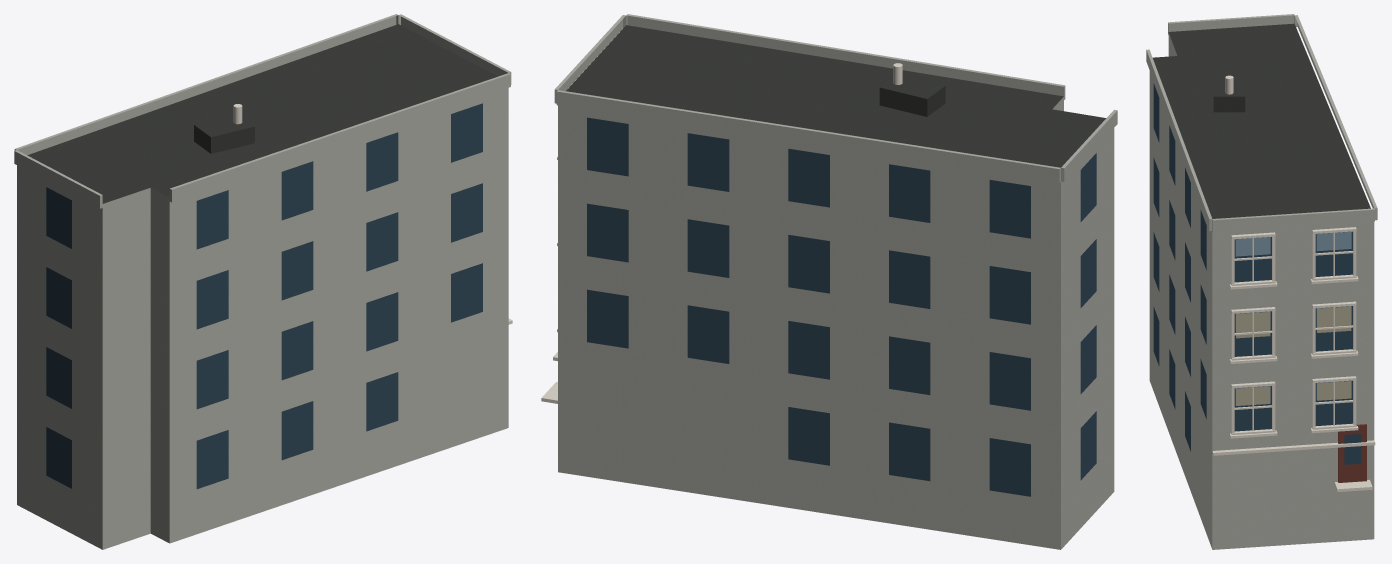
3 views of the same model, side by side, from view 1: azimuth 30°, elevation 25°; view 2: azimuth 150°, elevation 25°; view 3: azimuth 270°, elevation 25° (orthographic). The views are drawn at different scales.
Parts seen in each view (by area): view 1: Footprint 0 / surface 2, Footprint 0 / surface 1, Inset glazing, Facade bay volumes, Inferred rooftop service enclosure / surface 5, Inferred rooftop service enclosure / surface 3; view 2: Footprint 0 / surface 2, Inset glazing, Footprint 0 / surface 1, Facade bay volumes, Inferred rooftop service enclosure / surface 6, Inferred rooftop service enclosure / surface 3; view 3: Footprint 0 / surface 2, Footprint 0 / surface 1, Inset glazing, Cornices and window frames, Facade bay volumes, Interior blind variation, Sky reflection panels, Storefronts and doors, Inferred rooftop service enclosure / surface 3, Inferred rooftop service enclosure / surface 1.
Boxes of the visible parts, bbox=[...] form: Footprint 0 / surface 2: bbox=[17, 88, 508, 549]; Footprint 0 / surface 1: bbox=[27, 24, 497, 203]; Inset glazing: bbox=[46, 103, 482, 489]; Facade bay volumes: bbox=[14, 14, 511, 208]; Inferred rooftop service enclosure / surface 5: bbox=[211, 126, 254, 153]; Inferred rooftop service enclosure / surface 3: bbox=[194, 115, 254, 137]; Footprint 0 / surface 2: bbox=[558, 97, 1114, 549]; Inset glazing: bbox=[587, 117, 1096, 496]; Footprint 0 / surface 1: bbox=[566, 25, 1105, 167]; Facade bay volumes: bbox=[554, 14, 1117, 182]; Inferred rooftop service enclosure / surface 6: bbox=[879, 87, 927, 116]; Inferred rooftop service enclosure / surface 3: bbox=[880, 75, 944, 98]; Footprint 0 / surface 2: bbox=[1149, 33, 1374, 549]; Footprint 0 / surface 1: bbox=[1153, 23, 1370, 218]; Inset glazing: bbox=[1153, 83, 1361, 464]; Cornices and window frames: bbox=[1212, 227, 1375, 491]; Facade bay volumes: bbox=[1146, 14, 1377, 232]; Interior blind variation: bbox=[1236, 306, 1351, 405]; Sky reflection panels: bbox=[1235, 231, 1351, 405]; Storefronts and doors: bbox=[1338, 424, 1366, 482]; Inferred rooftop service enclosure / surface 3: bbox=[1213, 76, 1245, 96]; Inferred rooftop service enclosure / surface 1: bbox=[1213, 96, 1245, 112].
Size of the model in its own units: 18.56 by 14.78 by 8.76.
